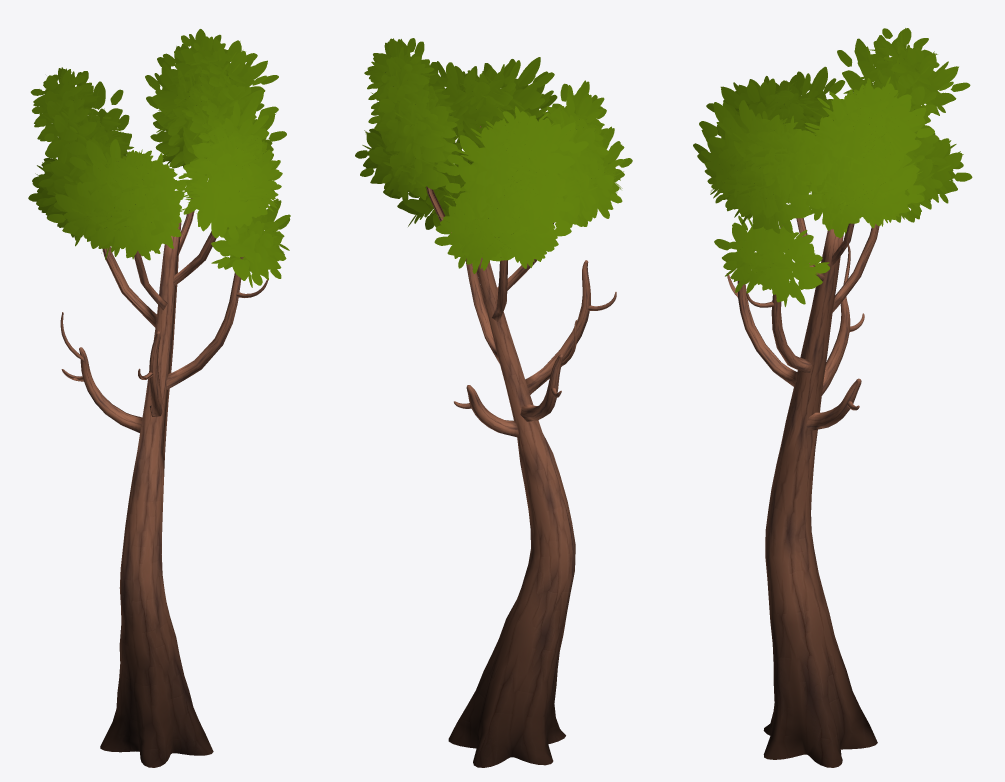
Rendered from tree_4.glb.
3 views of the same model, side by side, from view 1: azimuth 30°, elevation 25°; view 2: azimuth 150°, elevation 25°; view 3: azimuth 270°, elevation 25° (orthographic). The views are drawn at different scales.
Visible parts, largest first — view 1: CommonTree_4; view 2: CommonTree_4; view 3: CommonTree_4.
Boxes of the visible parts, box(x1,y1,x2,y2) form: CommonTree_4: box(28, 29, 290, 767); CommonTree_4: box(355, 38, 632, 767); CommonTree_4: box(693, 28, 972, 767).
Bounding box in the file's own units: 3.83 × 9.44 × 3.76.
2 materials, 2 textured.
